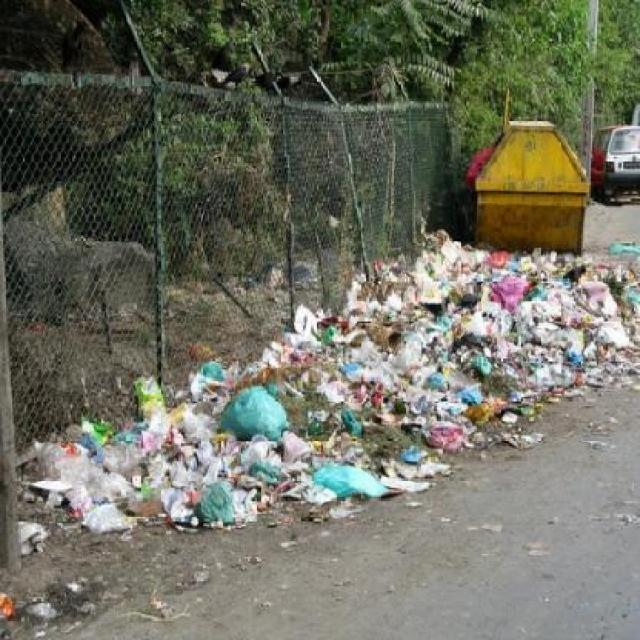garbage: (286, 232, 618, 423), (66, 388, 406, 504)
